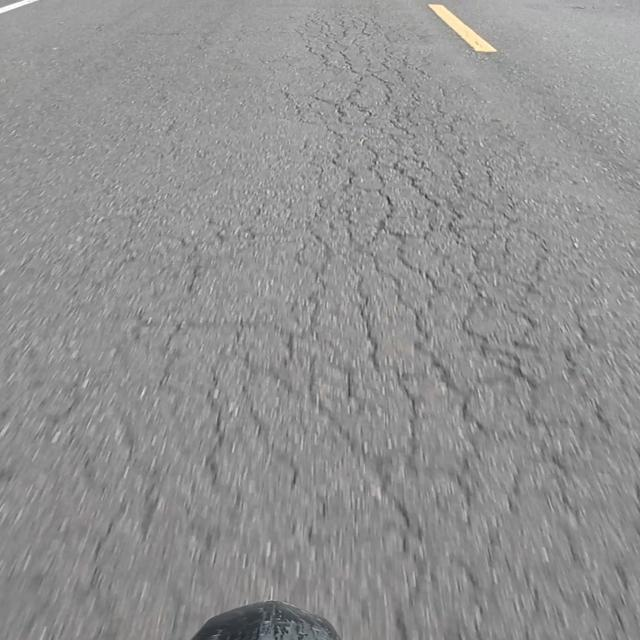Retak Buaya: (309, 17, 625, 617)
